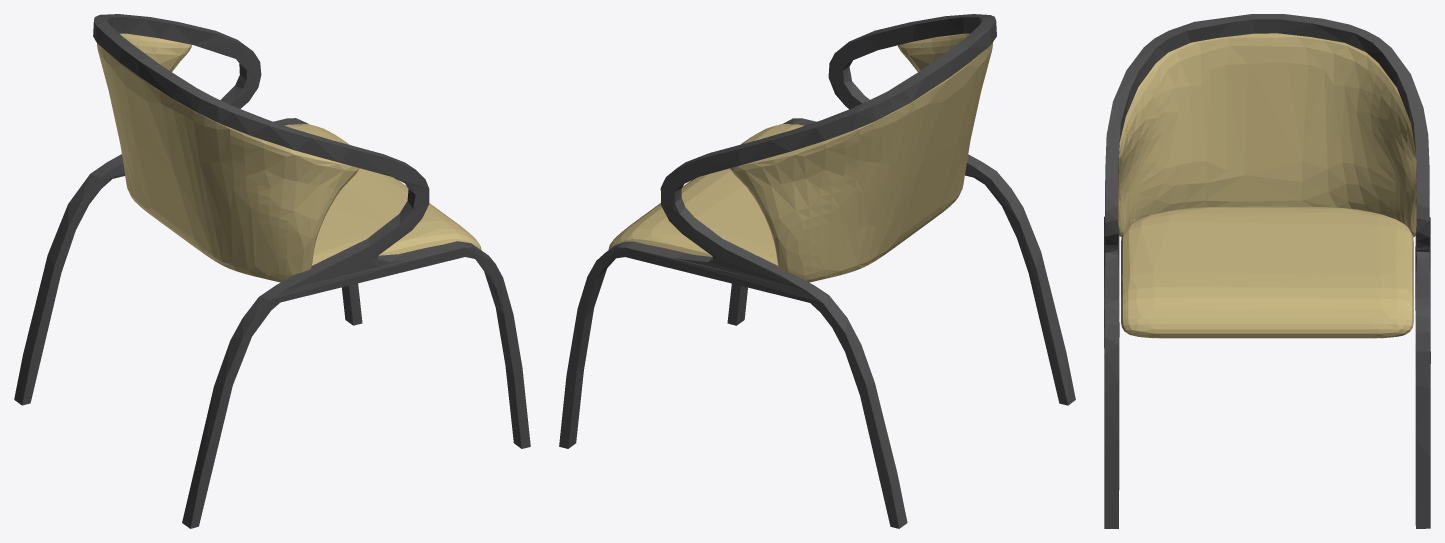
Rendered from chair.dae.
The picture shows the model from 3 angles, left to right: view 1: azimuth 30°, elevation 25°; view 2: azimuth 150°, elevation 25°; view 3: azimuth 270°, elevation 25°; orthographic projection. The views are drawn at different scales.
Visible parts, largest first — view 1: Rectangle1_001, Rectangle1_000; view 2: Rectangle1_001, Rectangle1_000; view 3: Rectangle1_001, Rectangle1_000.
Boxes of the visible parts, x1,y1,x2,y2 form: Rectangle1_001: (97,33,481,282); Rectangle1_000: (14,14,530,528); Rectangle1_001: (608,33,993,282); Rectangle1_000: (559,14,1075,528); Rectangle1_001: (1118,33,1416,338); Rectangle1_000: (1104,14,1430,528).
Bounding box in the file's own units: 2.75 × 2.47 × 3.12.
